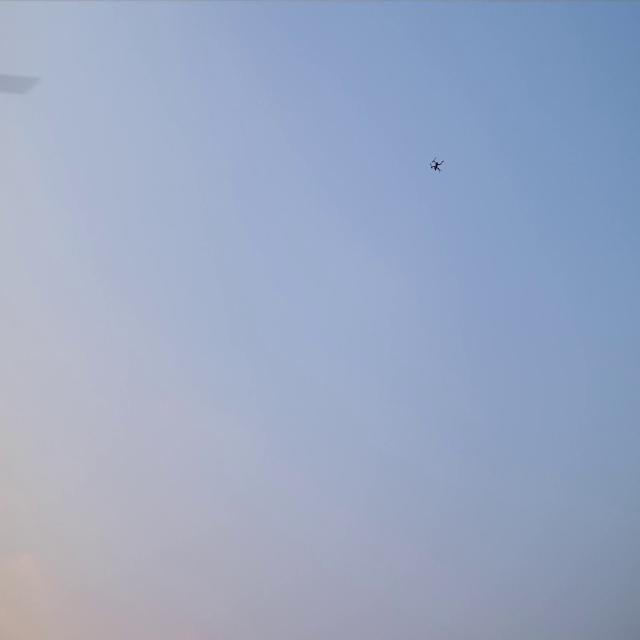UAV: (430, 156, 444, 172)
